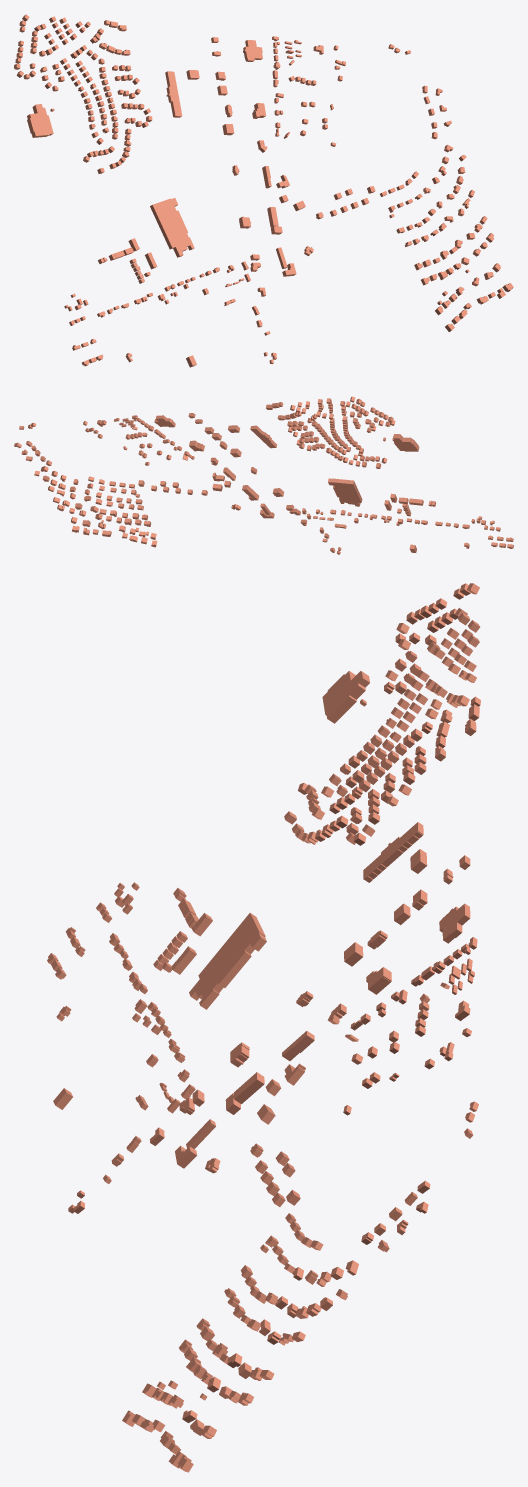
The picture shows the model from 3 angles, top to bottom: view 1: azimuth 30°, elevation 25°; view 2: azimuth 150°, elevation 25°; view 3: azimuth 270°, elevation 25°; orthographic projection. The views are drawn at different scales.
Parts seen in each view (by area): view 1: mesh; view 2: mesh; view 3: mesh.
Part boxes in pixels (bbox=[...]): mesh: bbox=[14, 14, 513, 367]; mesh: bbox=[14, 396, 513, 554]; mesh: bbox=[47, 583, 480, 1472].
Bounding box in the file's own units: 1731 × 1135 × 789.
